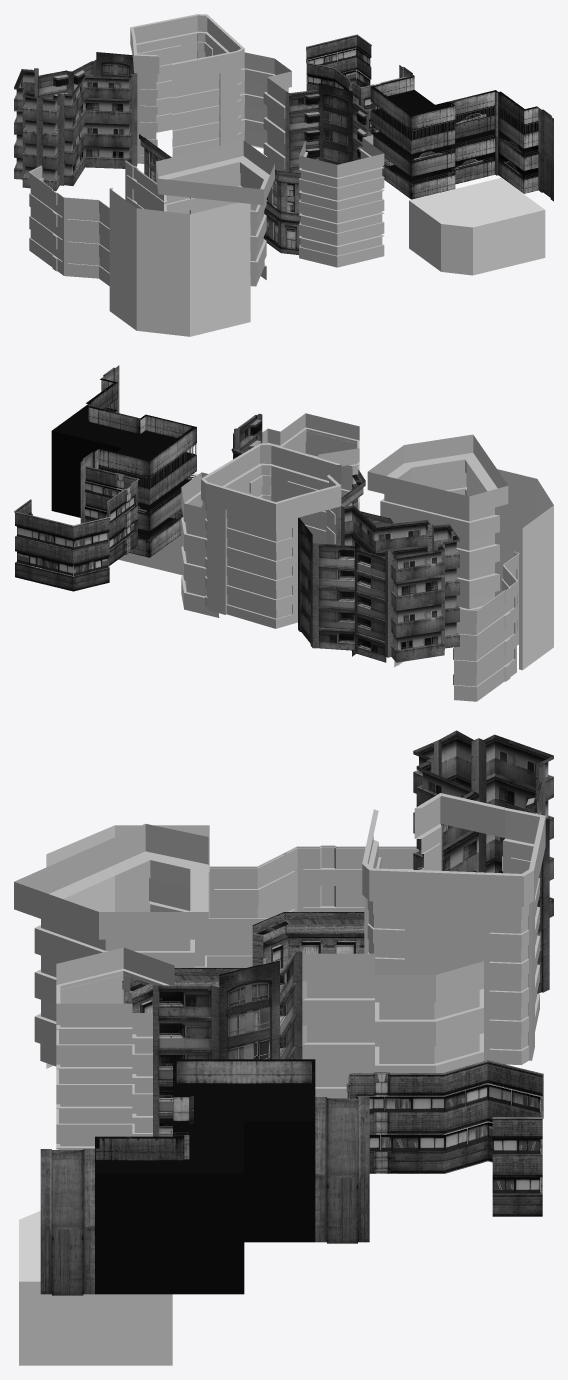
File: downtown_block_4.fbx
The picture shows the model from 3 angles, top to bottom: view 1: azimuth 30°, elevation 25°; view 2: azimuth 150°, elevation 25°; view 3: azimuth 270°, elevation 25°; orthographic projection. The views are drawn at different scales.
Parts seen in each view (by area): view 1: Box013, downtown_building_1, downtown_building_2, downtown_building_3, Box008, downtown_building_4_9, downtown_building_4_5, downtown_building_4_6, downtown_building_10, downtown_building_11, downtown_building_4_4, downtown_building_8 (+2 smaller); view 2: downtown_building_2, downtown_building_1, downtown_building_4_5, downtown_building_3, downtown_building_7, Box013, downtown_building_8, downtown_building_4_6, downtown_building_4_9, Object042, downtown_building_11, Box008 (+2 smaller); view 3: downtown_building_1, downtown_building_2, downtown_building_4_5, downtown_building_11, downtown_building_4_9, downtown_building_10, downtown_building_4_6, Box008, downtown_building_8, downtown_building_3, Object042, downtown_building_4_4 (+2 smaller).
Boxes of the visible parts, left/top/right/bottom form: Box013: left=109, top=187, right=250, bottom=336; downtown_building_1: left=370, top=65, right=553, bottom=201; downtown_building_2: left=130, top=14, right=244, bottom=163; downtown_building_3: left=14, top=68, right=137, bottom=191; Box008: left=409, top=177, right=545, bottom=275; downtown_building_4_9: left=299, top=131, right=384, bottom=267; downtown_building_4_5: left=156, top=140, right=274, bottom=286; downtown_building_4_6: left=28, top=160, right=190, bottom=285; downtown_building_10: left=285, top=83, right=368, bottom=173; downtown_building_11: left=239, top=52, right=291, bottom=171; downtown_building_4_4: left=139, top=134, right=300, bottom=254; downtown_building_8: left=306, top=34, right=371, bottom=90; downtown_building_2: left=201, top=443, right=341, bottom=628; downtown_building_1: left=51, top=365, right=196, bottom=557; downtown_building_4_5: left=367, top=434, right=508, bottom=610; downtown_building_3: left=336, top=505, right=459, bottom=662; downtown_building_7: left=298, top=517, right=386, bottom=662; Box013: left=467, top=462, right=553, bottom=670; downtown_building_8: left=14, top=499, right=110, bottom=591; downtown_building_4_6: left=394, top=551, right=519, bottom=701; downtown_building_4_9: left=262, top=413, right=359, bottom=510; Object042: left=85, top=466, right=139, bottom=565; downtown_building_11: left=181, top=472, right=219, bottom=617; Box008: left=118, top=473, right=198, bottom=575; downtown_building_1: left=40, top=1059, right=369, bottom=1295; downtown_building_2: left=362, top=793, right=545, bottom=1064; downtown_building_4_5: left=14, top=823, right=208, bottom=1066; downtown_building_11: left=302, top=953, right=483, bottom=1110; downtown_building_4_9: left=56, top=947, right=174, bottom=1149; downtown_building_10: left=153, top=951, right=302, bottom=1136; downtown_building_4_6: left=195, top=845, right=418, bottom=967; Box008: left=19, top=1211, right=172, bottom=1365; downtown_building_8: left=444, top=1060, right=543, bottom=1216; downtown_building_3: left=413, top=730, right=553, bottom=917; Object042: left=346, top=1072, right=444, bottom=1173; downtown_building_4_4: left=122, top=912, right=364, bottom=1014.
Size of the model in its own units: 6383 by 2692 by 4063.
